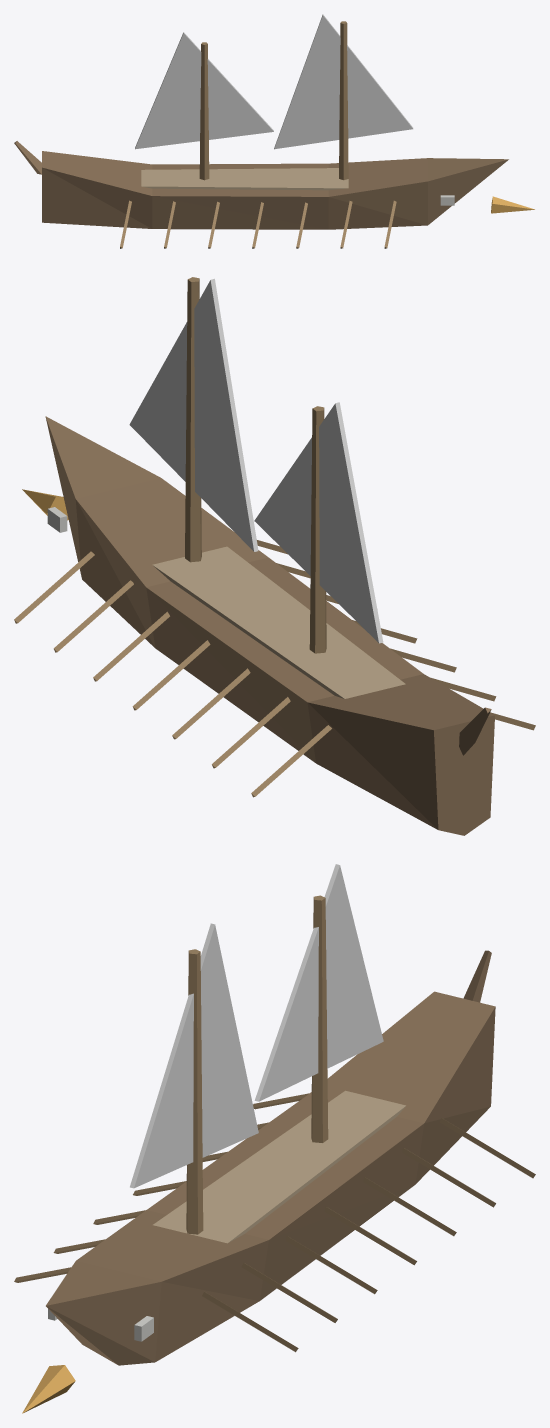
The model's file is dromon.glb.
The picture shows the model from 3 angles, top to bottom: view 1: azimuth 30°, elevation 25°; view 2: azimuth 150°, elevation 25°; view 3: azimuth 270°, elevation 25°; orthographic projection. The views are drawn at different scales.
Visible parts, largest first — view 1: LOD0; view 2: LOD0; view 3: LOD0.
Boxes of the visible parts, left/top/right/bottom form: LOD0: left=14, top=14, right=534, bottom=248; LOD0: left=14, top=277, right=535, bottom=835; LOD0: left=14, top=864, right=535, bottom=1413.
Size of what is drawn, in the model's own units: 1.95 by 0.9875 by 1.25.
